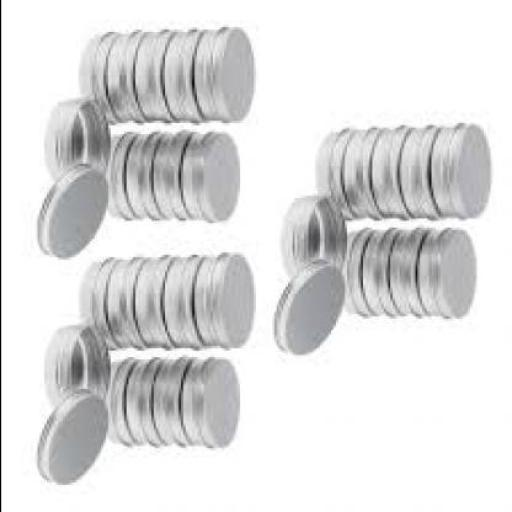metal: (39, 161, 111, 262), (275, 262, 347, 360), (41, 392, 107, 488), (193, 255, 255, 351), (432, 125, 494, 221), (196, 30, 257, 126), (284, 196, 351, 278), (182, 134, 241, 225), (419, 230, 476, 323), (180, 362, 241, 448), (50, 102, 114, 180), (50, 330, 111, 400), (164, 30, 206, 128), (134, 260, 176, 350), (400, 128, 439, 224), (109, 32, 148, 126), (164, 257, 203, 351), (136, 32, 173, 126), (373, 130, 410, 221), (111, 259, 146, 355), (84, 34, 120, 127), (318, 130, 353, 221), (152, 136, 189, 222), (102, 136, 139, 222), (127, 132, 162, 222), (84, 262, 119, 352), (154, 362, 189, 450), (389, 232, 423, 318), (348, 130, 380, 221), (127, 362, 162, 445), (98, 362, 132, 445), (364, 230, 396, 316), (343, 232, 373, 318)
